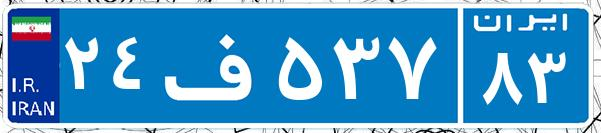2: (57, 26, 110, 107)
3: (330, 28, 385, 110), (525, 38, 570, 115)
4: (110, 28, 158, 105)
5: (273, 28, 330, 110)
7: (385, 28, 445, 110)
8: (475, 38, 525, 113)
ف: (158, 15, 273, 115)
